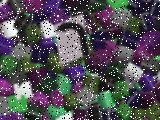Left: (54, 13, 90, 65)
